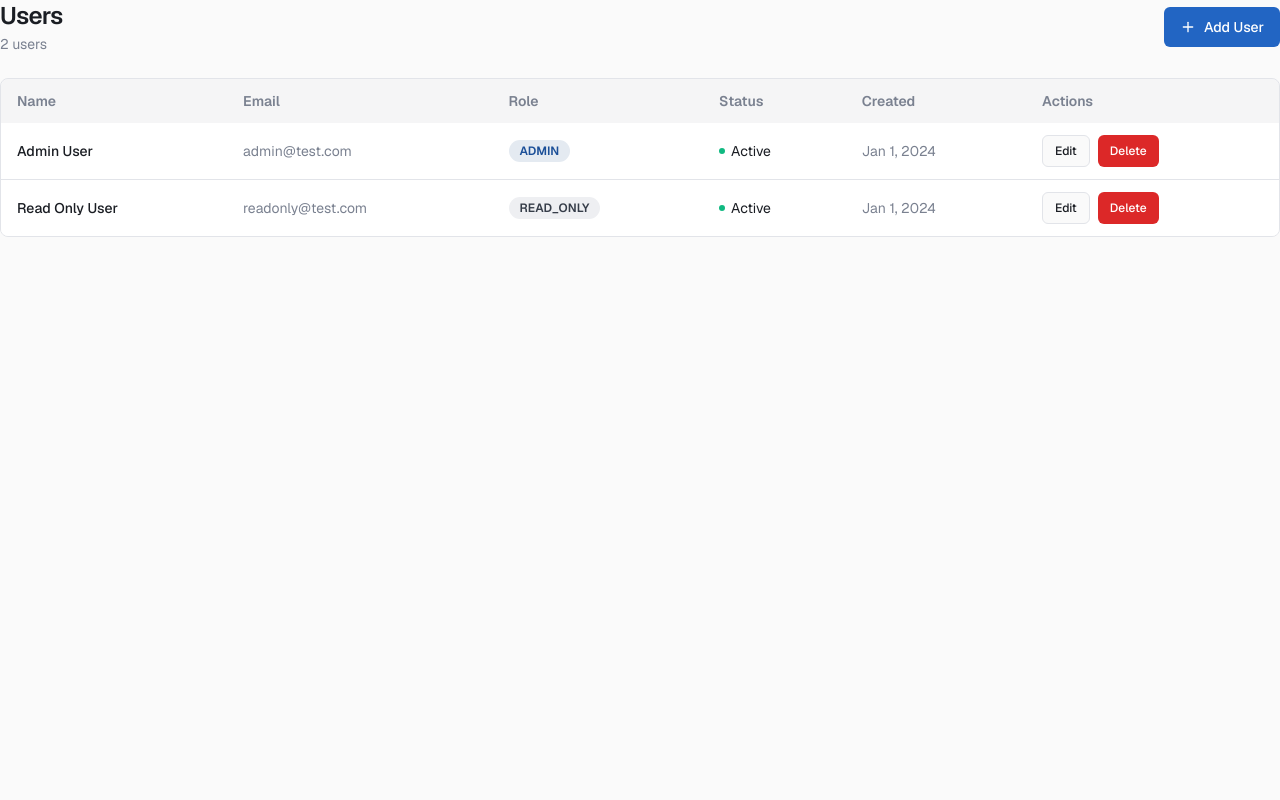
UserList › opens delete dialog when delete button is clicked
Check: the text "Admin User" is shown, box 1,123 -> 227,180
Step 1. Click the button "Delete" in the row of "Admin User" → [1128, 151], box 1098,135 -> 1159,167
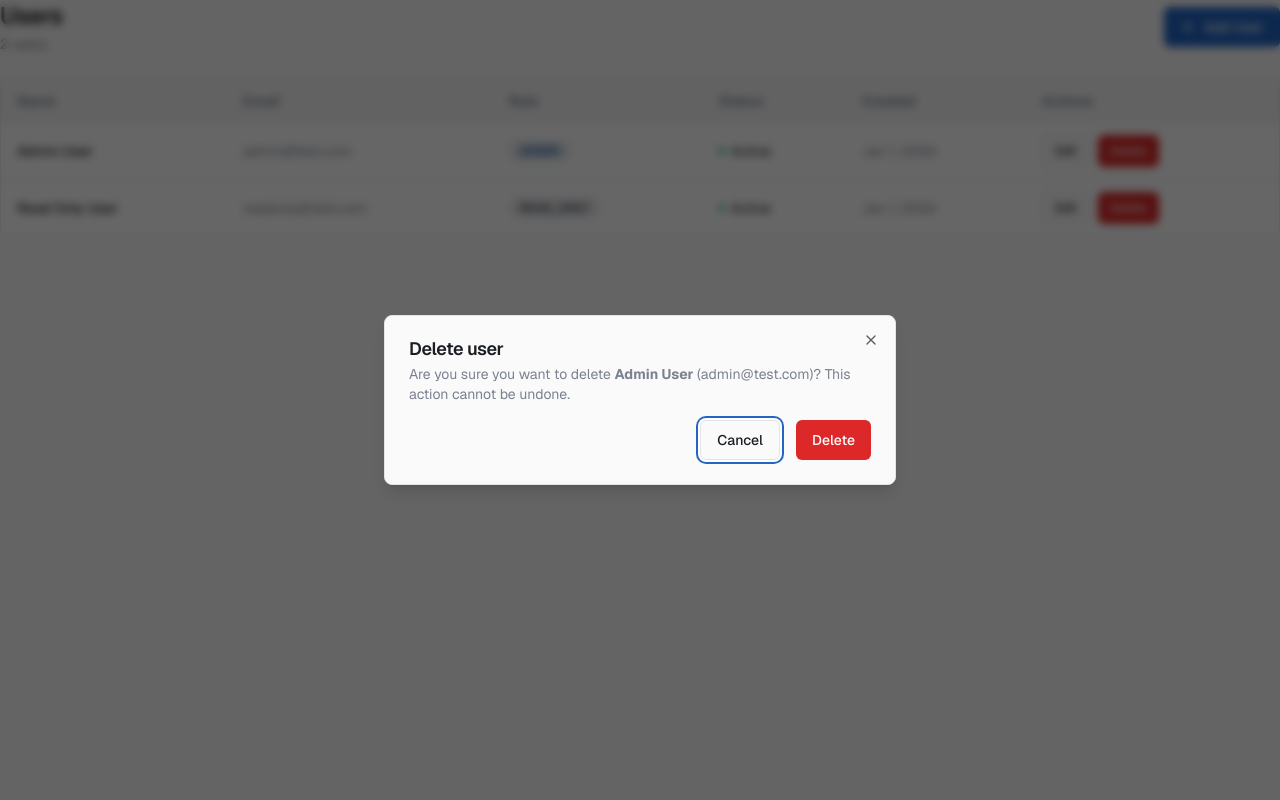
Check: the dialog is shown, box 384,315 -> 896,485
